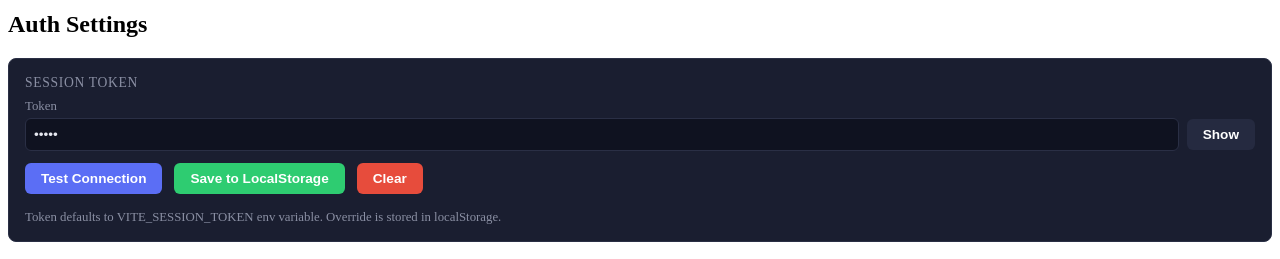
Scenario: AuthSettings › toggle mask switches input type
Click the button with test id "toggle-mask".
click(1221, 134)  # box [1187,119,1255,150]
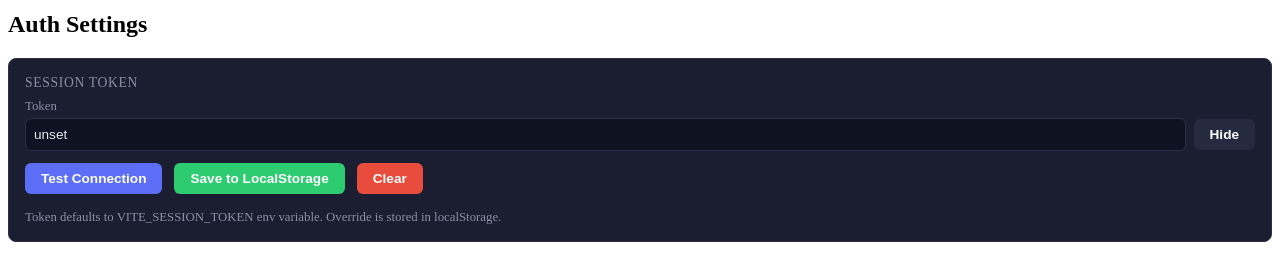
Result: the field with test id "token-input" shows its text at [25,118,1186,151]
Click the button with test id "toggle-mask".
click(1224, 134)  # box [1194,119,1255,150]
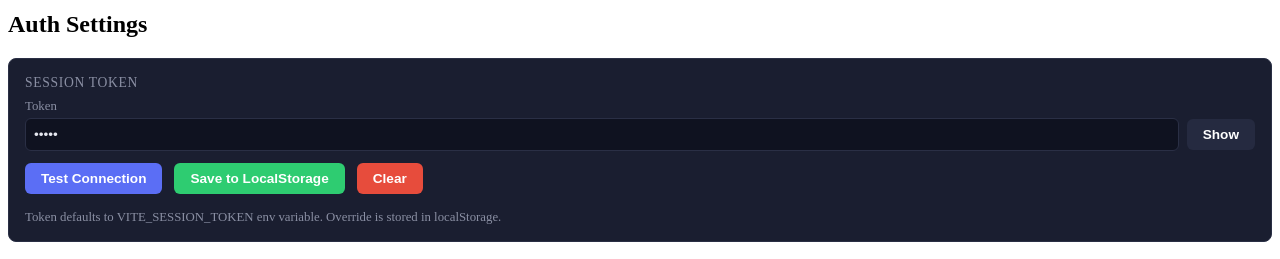
Result: the password field with test id "token-input" hides its text at [25,118,1179,151]
